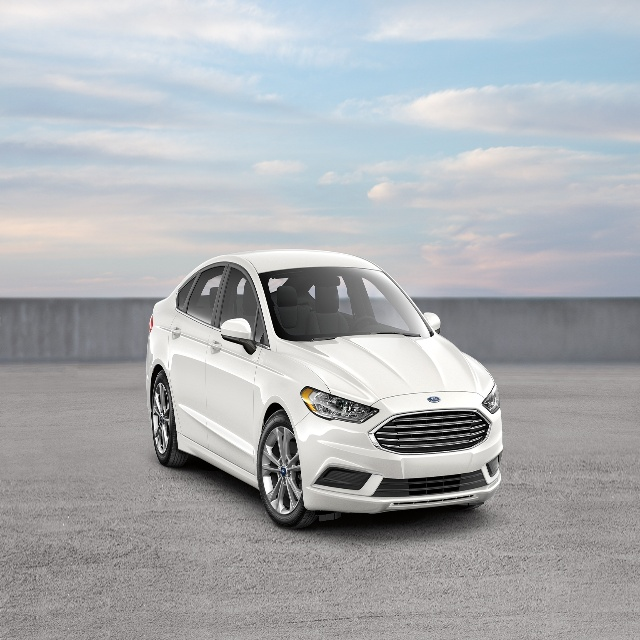Car: (145, 248, 503, 530)
